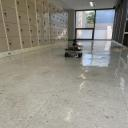cart: (64, 46, 83, 58)
